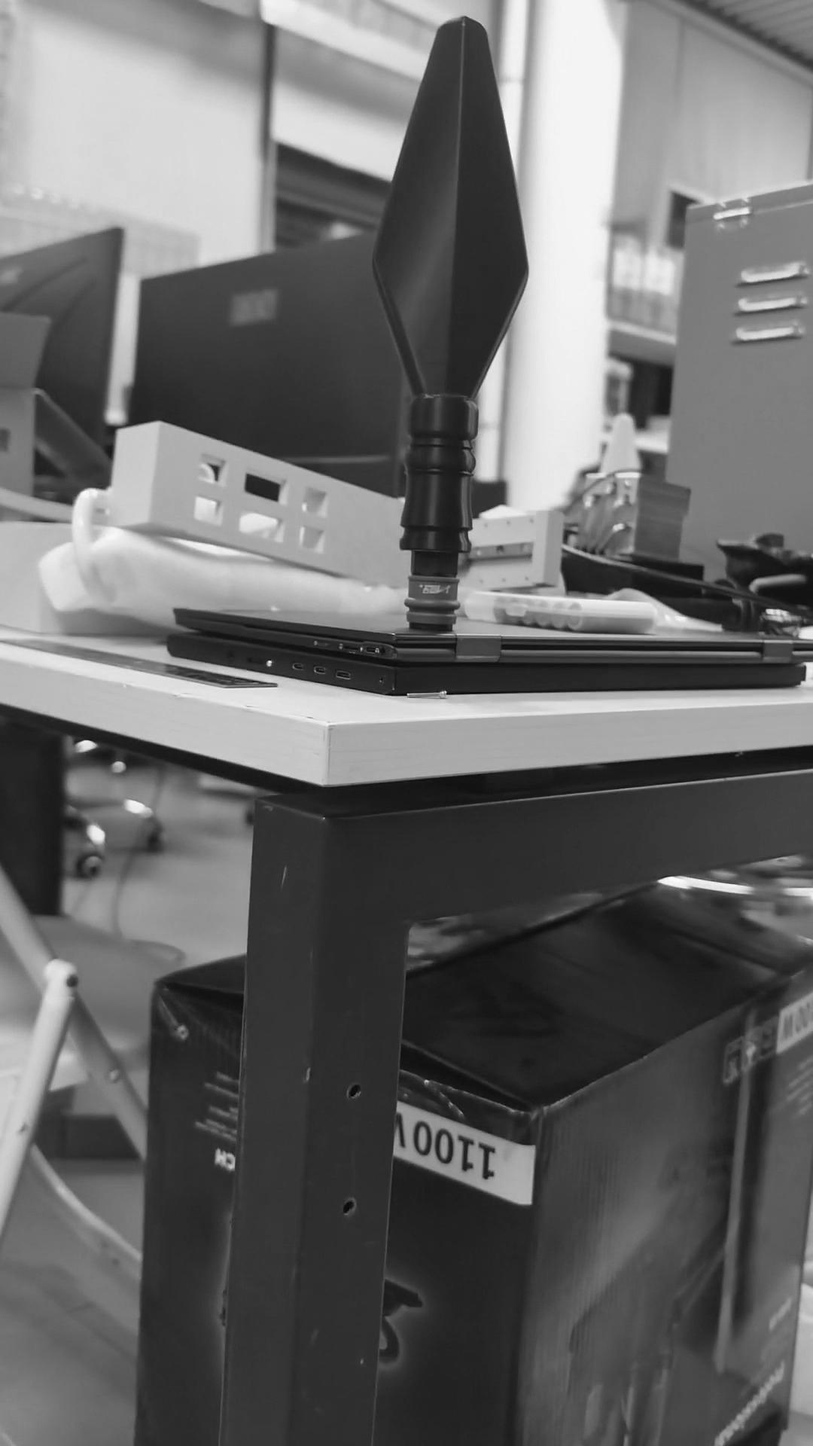base: (396, 568, 469, 639)
